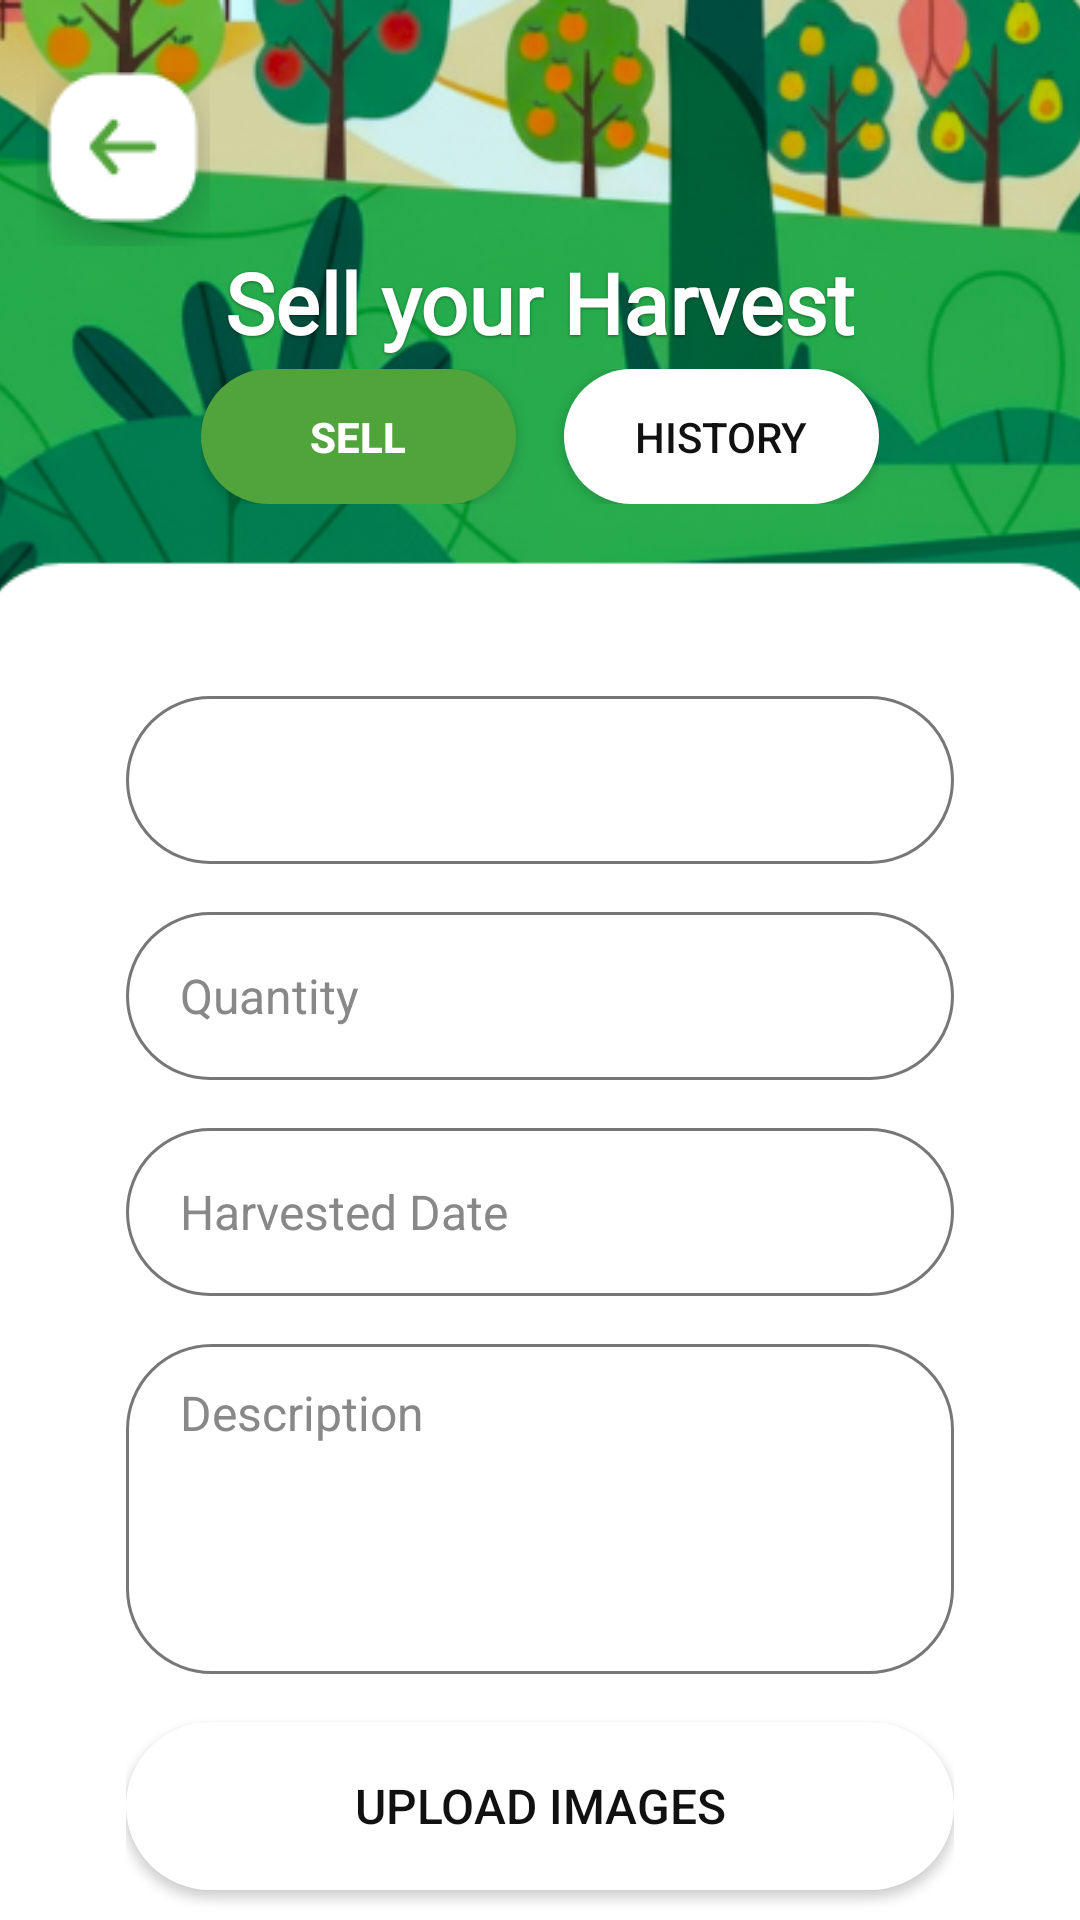

Icon click points for this 1080w x 1920h phone screenshot, format [x,y]:
Back: [123,159]
